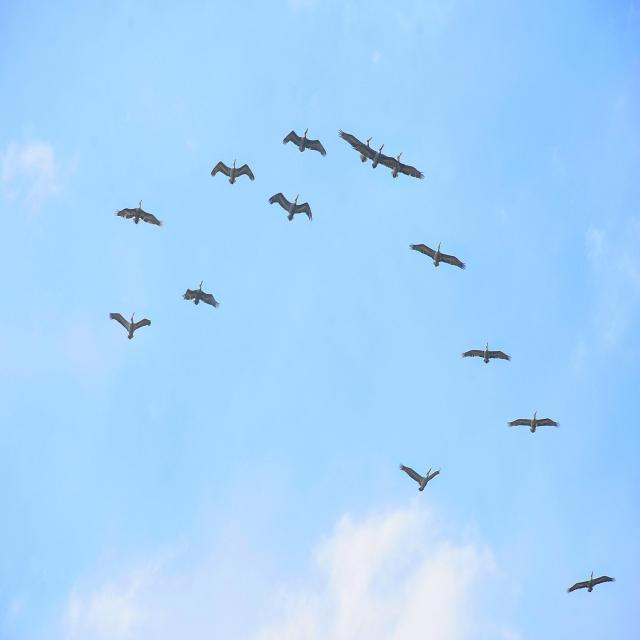bird: (407, 237, 466, 278), (566, 566, 618, 604), (267, 188, 314, 230), (397, 458, 444, 497), (113, 198, 167, 230), (506, 411, 563, 440), (459, 340, 514, 370), (336, 125, 378, 164), (280, 125, 328, 159), (107, 309, 157, 341), (207, 152, 257, 184), (382, 150, 426, 183), (181, 277, 222, 312), (354, 140, 398, 169)
